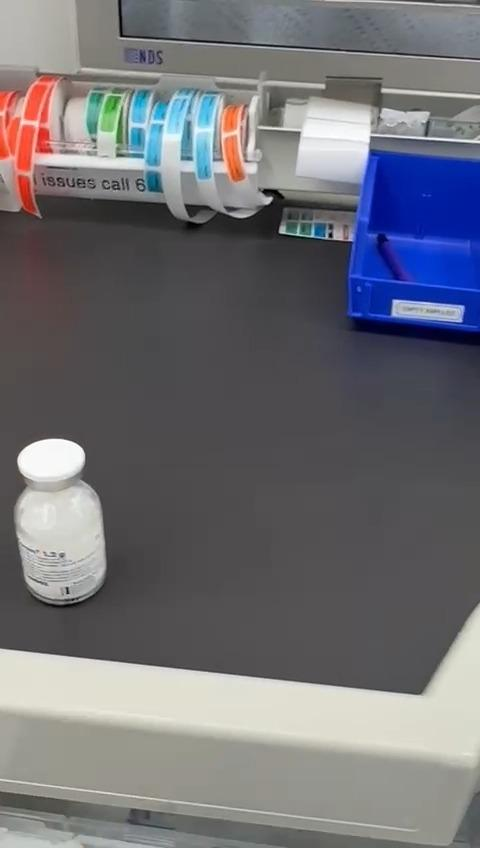augmentin: (15, 439, 104, 604)
